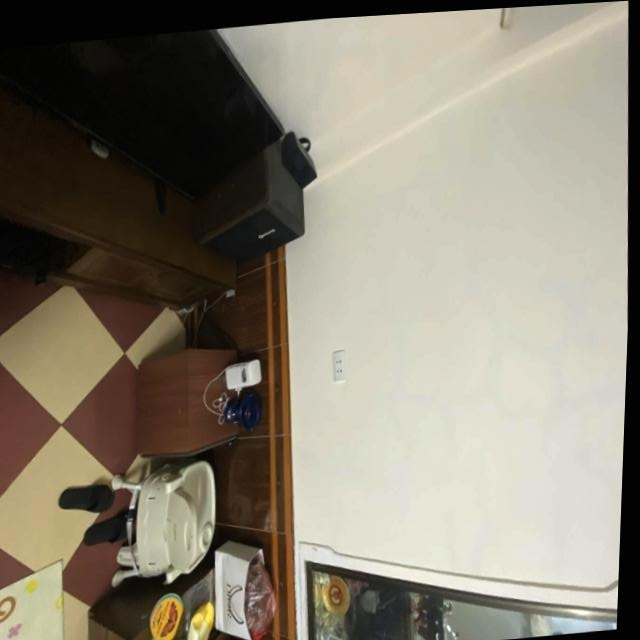outlet: (332, 349, 348, 382)
